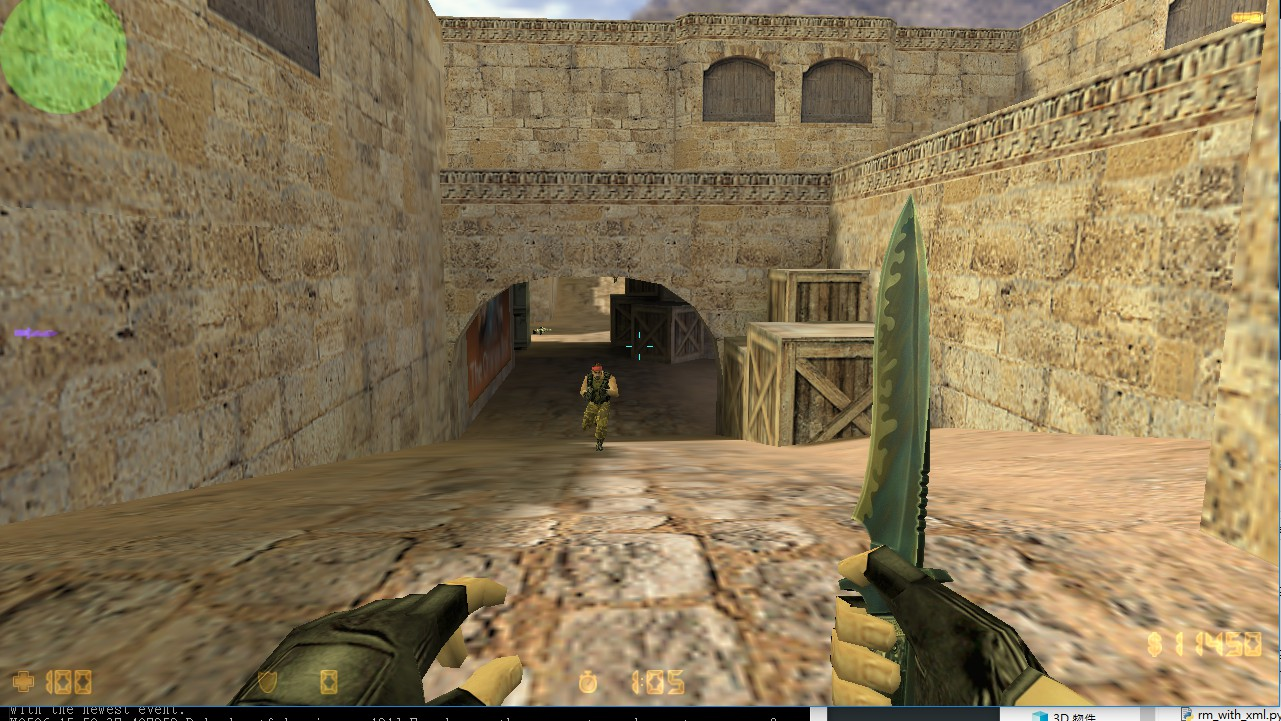person: (574, 357, 620, 457)
